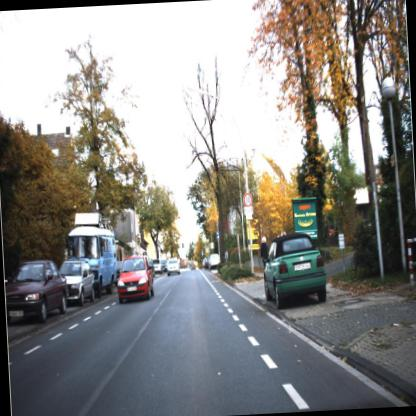prohibitory: (241, 190, 253, 208)
